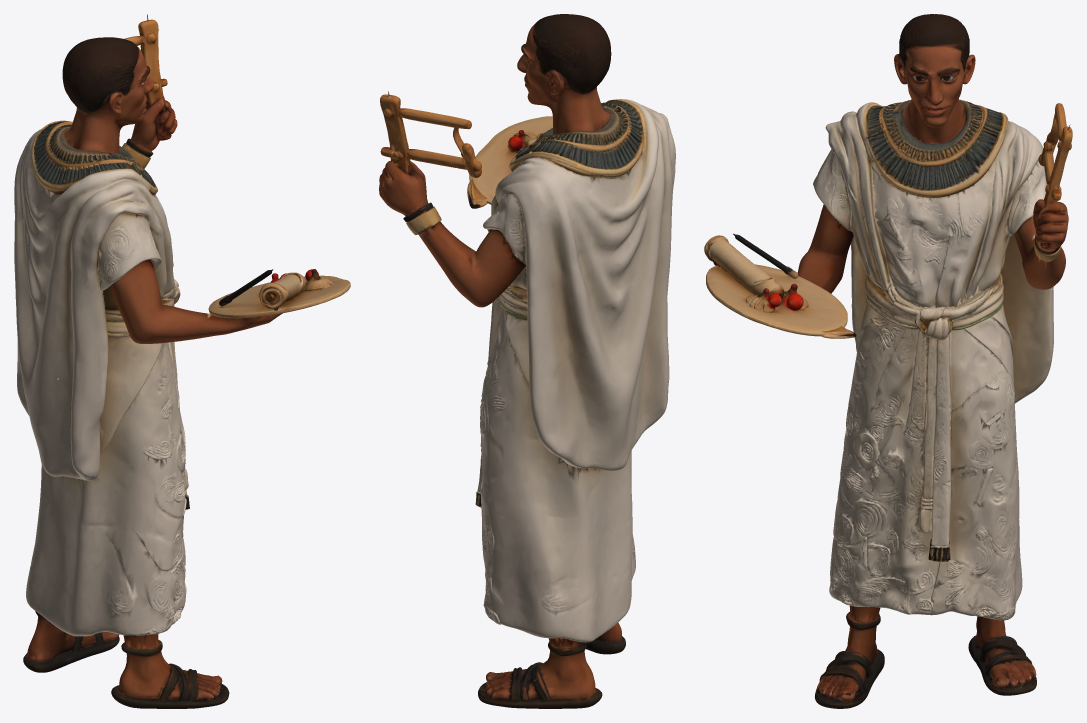
The model's file is egyptian_astronomer.min.glb.
3 renders of one model, left to right at view 1: azimuth 30°, elevation 25°; view 2: azimuth 150°, elevation 25°; view 3: azimuth 270°, elevation 25°, orthographic. The views are drawn at different scales.
Parts seen in each view (by area): view 1: tripo_node_53444deb-127c-4b41-b9dc-130c456b3f17; view 2: tripo_node_53444deb-127c-4b41-b9dc-130c456b3f17; view 3: tripo_node_53444deb-127c-4b41-b9dc-130c456b3f17.
Part boxes in pixels (<box>): tripo_node_53444deb-127c-4b41-b9dc-130c456b3f17: <box>14,14,350,708</box>; tripo_node_53444deb-127c-4b41-b9dc-130c456b3f17: <box>379,14,675,708</box>; tripo_node_53444deb-127c-4b41-b9dc-130c456b3f17: <box>704,14,1072,708</box>.
Bounding box in the file's own units: 0.3714 × 0.9791 × 0.5.
1 material, 1 textured.
